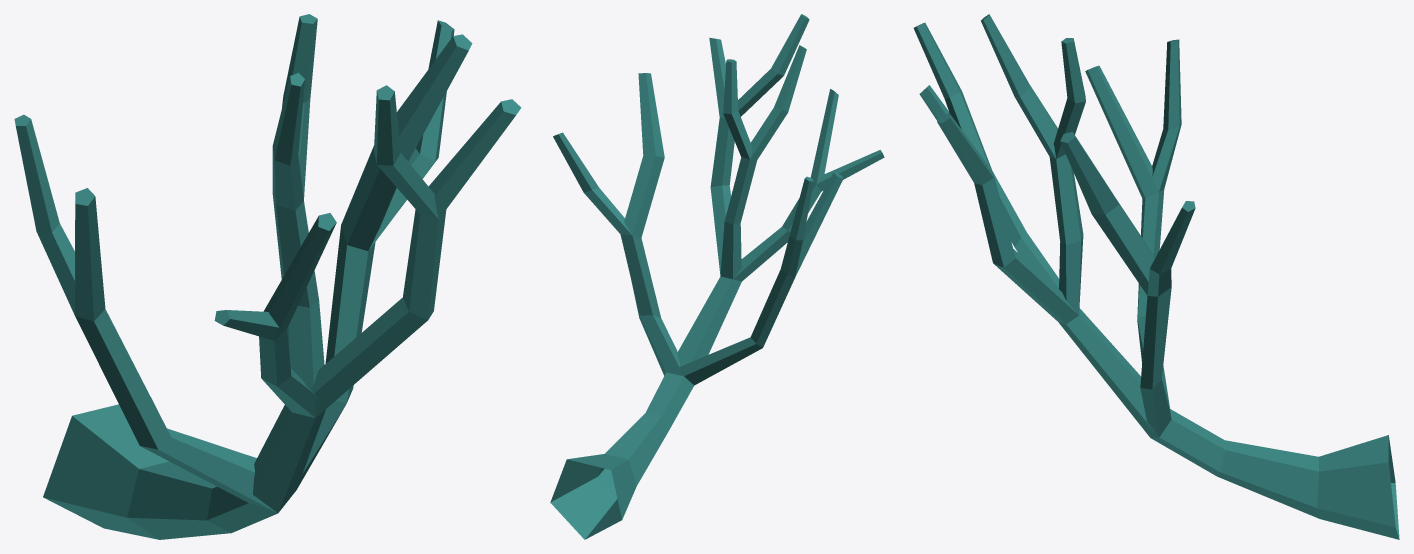
Rendered from SM_Coral_Branch_Side_Dead_A.fbx.
3 views of the same model, side by side, from view 1: azimuth 30°, elevation 25°; view 2: azimuth 150°, elevation 25°; view 3: azimuth 270°, elevation 25° (orthographic). The views are drawn at different scales.
Visible parts, largest first — view 1: coral-branch-side-dead-a; view 2: coral-branch-side-dead-a; view 3: coral-branch-side-dead-a.
Part boxes in pixels (x1,y1,x2,y2): coral-branch-side-dead-a: [14, 14, 521, 539]; coral-branch-side-dead-a: [550, 14, 884, 539]; coral-branch-side-dead-a: [913, 14, 1399, 539].
Size of the model in its own units: 0.5921 by 0.8797 by 0.776.
